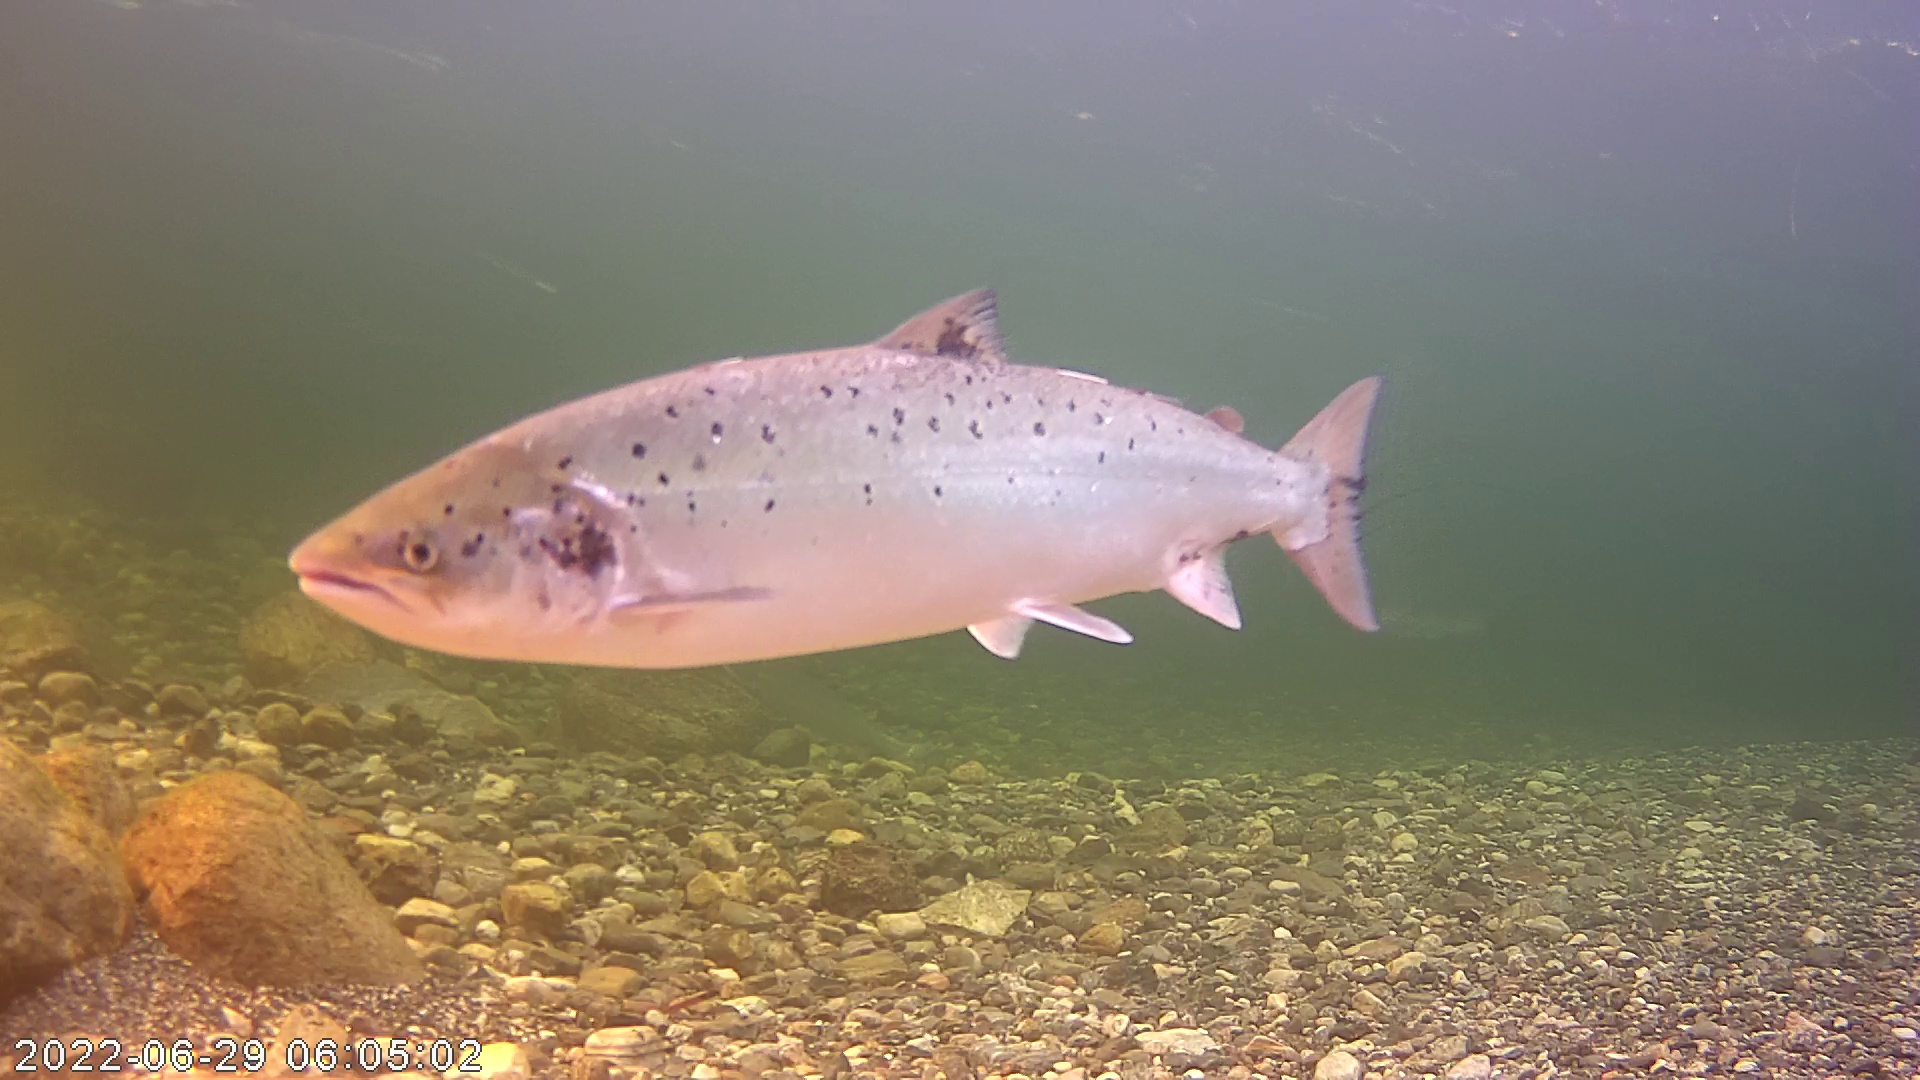salmon: (282, 284, 1386, 676)
